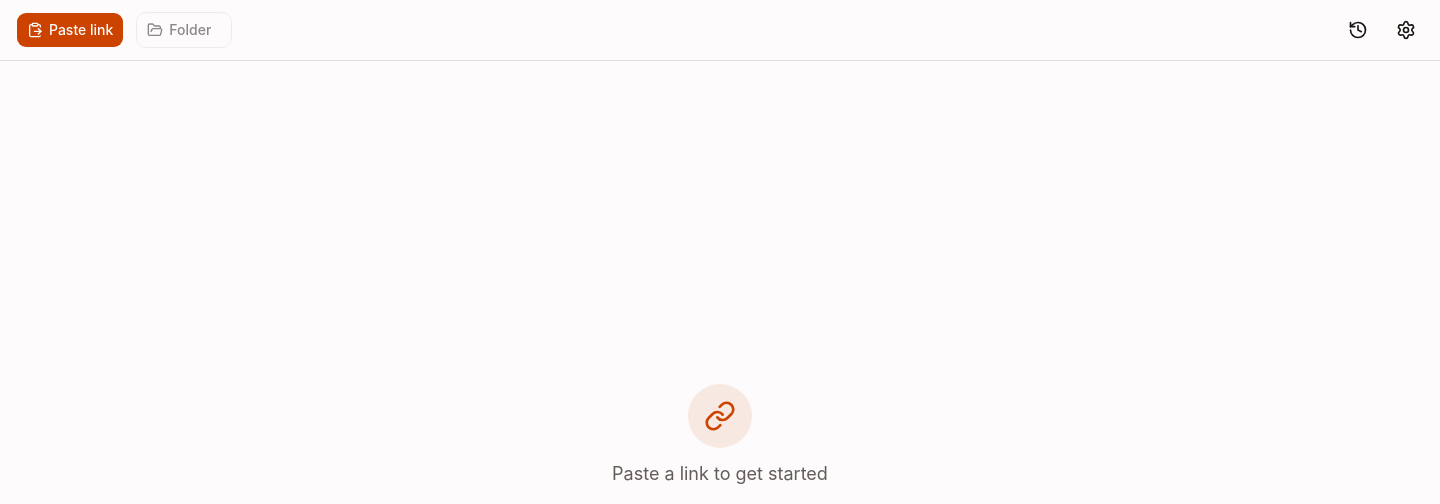
Test: the history button swaps the list for the history and back
Click the button named "History" at (1358, 30), box [1340,12,1376,48]
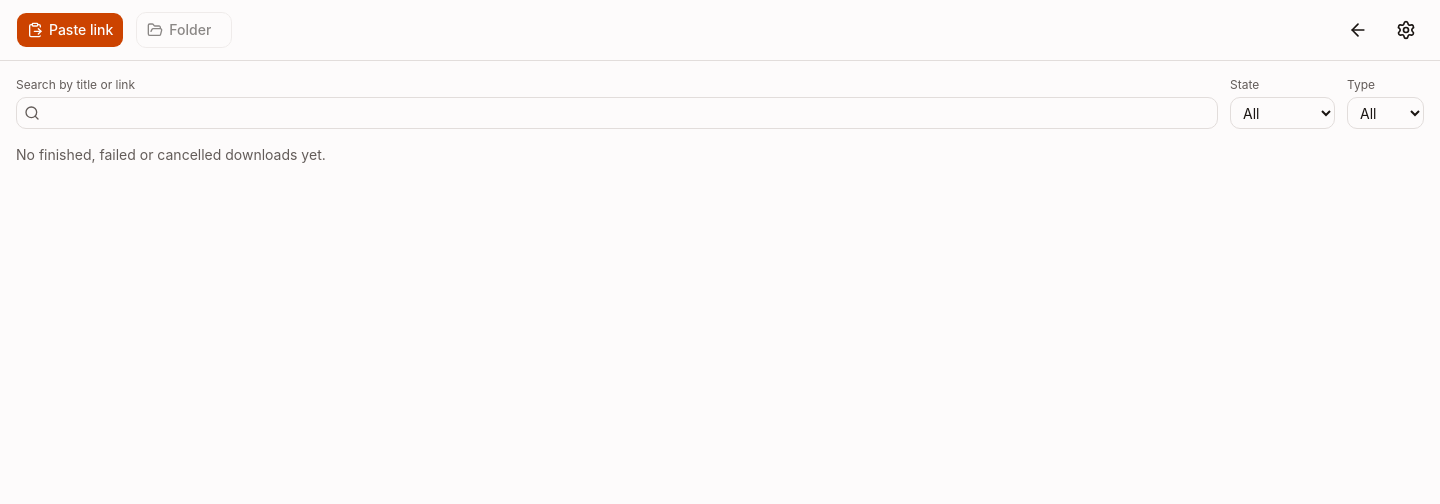
Check: the button "Paste link" is shown, box [16,12,124,48]
Check: the element named "History" is shown, box [0,61,1439,181]
Check: the text "Paste a link to get started" is gone
Click the button named "Back to downloads" at (1358, 30), box [1340,12,1376,48]
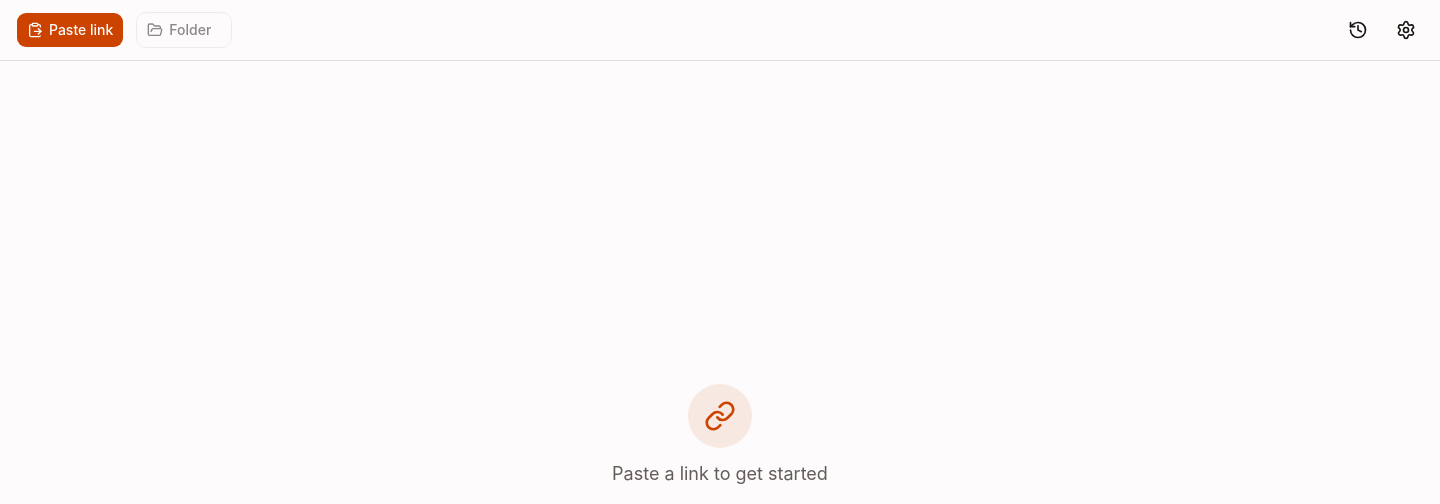
Check: the text "Paste a link to get started" is shown, box [612,460,828,488]
